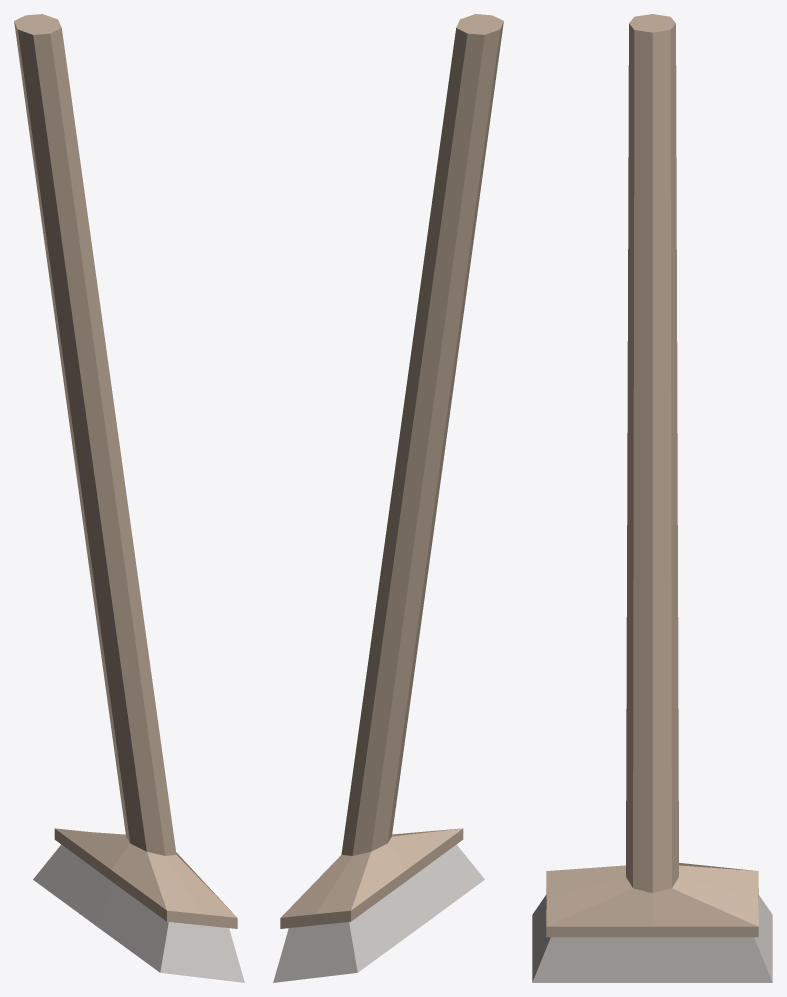
The model's file is context2-broom.fbx.
3 views of the same model, side by side, from view 1: azimuth 30°, elevation 25°; view 2: azimuth 150°, elevation 25°; view 3: azimuth 270°, elevation 25° (orthographic). The views are drawn at different scales.
Parts seen in each view (by area): view 1: Bezem; view 2: Bezem; view 3: Bezem.
Part boxes in pixels (x1,y1,x2,y2): Bezem: (14, 14, 244, 982); Bezem: (273, 14, 503, 982); Bezem: (532, 14, 772, 982).
Size of the model in its own units: 0.0102 by 0.0561 by 0.0137.
